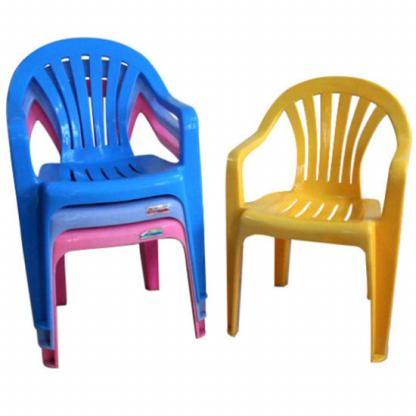chair: (7, 40, 218, 378), (226, 76, 410, 368)
